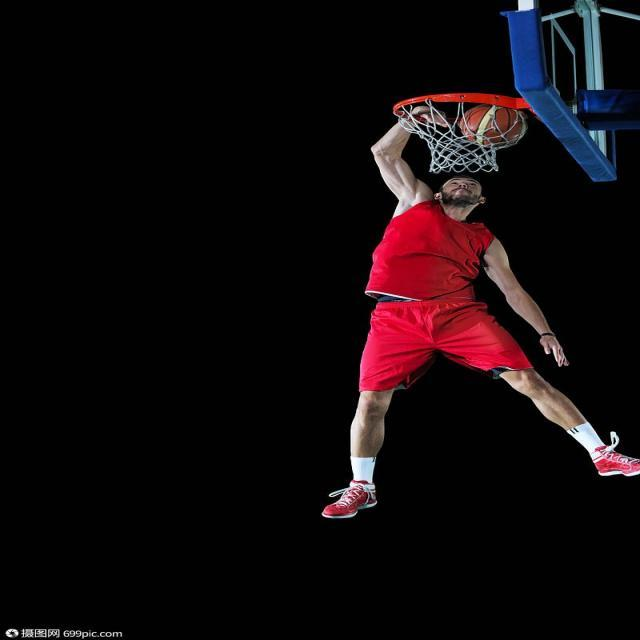rim: (462, 103, 524, 144)
